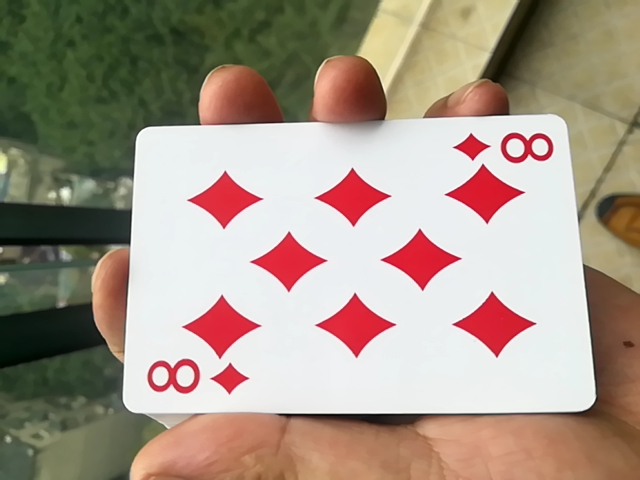fk 8: (104, 122, 584, 439)
